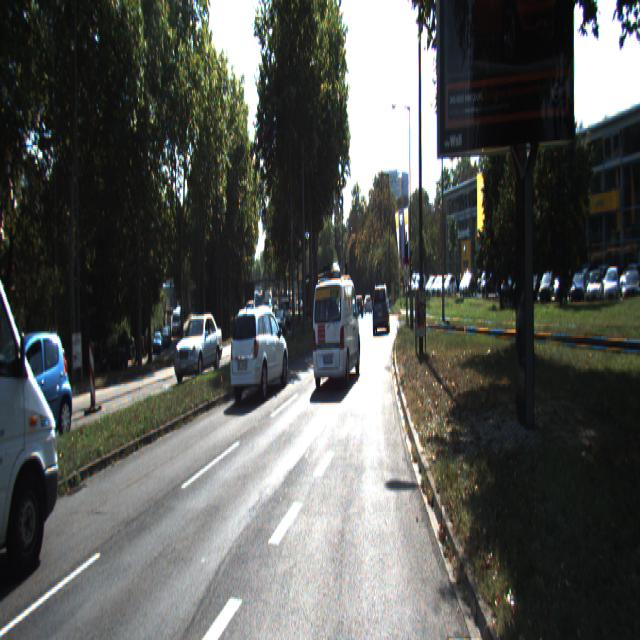Car: (0, 325, 74, 463), (229, 300, 289, 402), (172, 314, 222, 383), (372, 284, 390, 336), (255, 308, 274, 352)
DontCare: (403, 252, 639, 308), (78, 327, 146, 375), (151, 316, 171, 356), (290, 284, 304, 324)
Tram: (308, 268, 342, 322)
Van: (0, 174, 58, 611), (311, 276, 362, 390)
